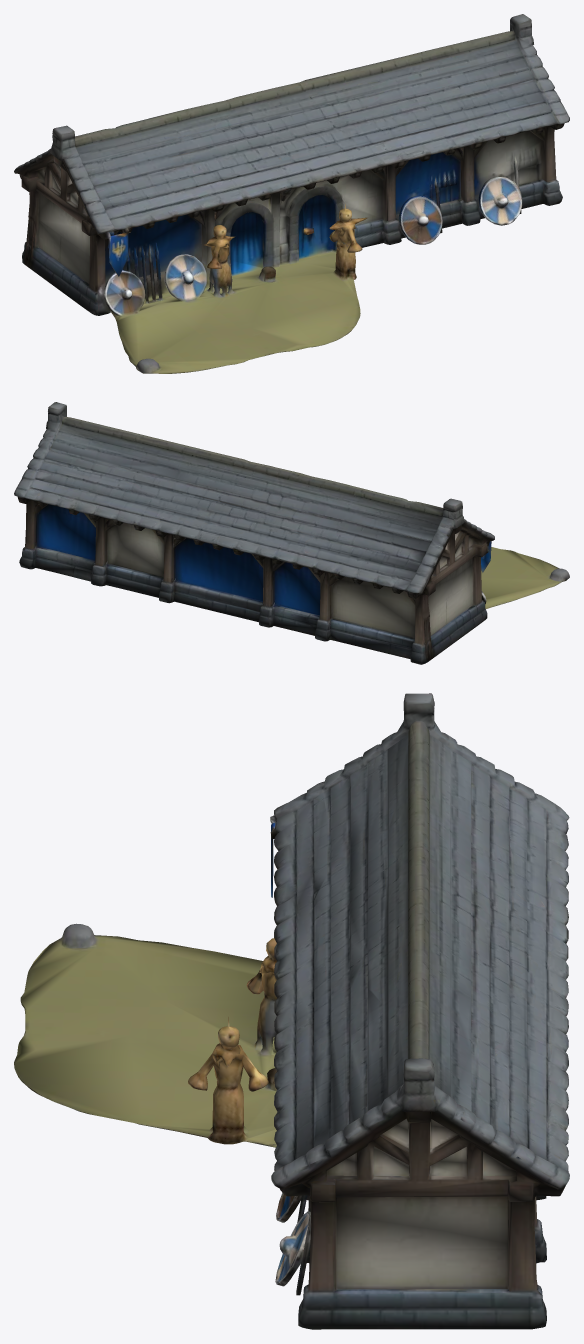
Rendered from hum_barr.glb.
3 views of the same model, one above another, from view 1: azimuth 30°, elevation 25°; view 2: azimuth 150°, elevation 25°; view 3: azimuth 270°, elevation 25° (orthographic). The views are drawn at different scales.
Parts seen in each view (by area): view 1: node_0; view 2: node_0; view 3: node_0.
Boxes of the visible parts, box(x1,y1,x2,y2) form: node_0: box(14, 14, 569, 373); node_0: box(14, 402, 569, 664); node_0: box(14, 693, 569, 1329).
Bounding box in the file's own units: 1.03 × 0.3231 × 0.6123.
1 material, 1 textured.
